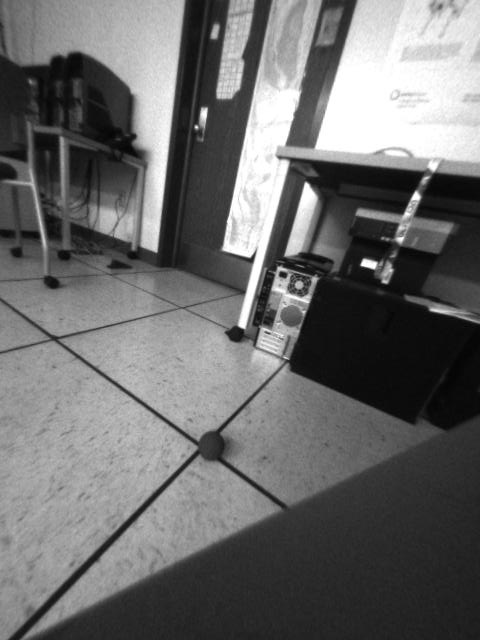dogtoy: (193, 424, 232, 464)
